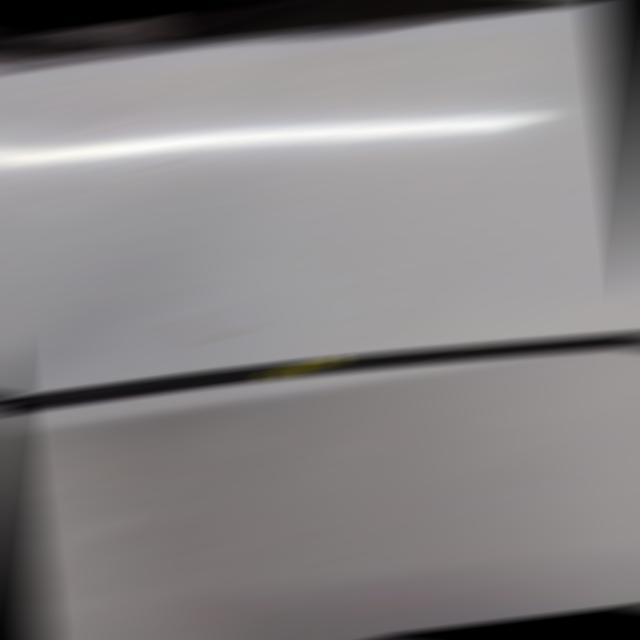yellow: (271, 362, 333, 373)
